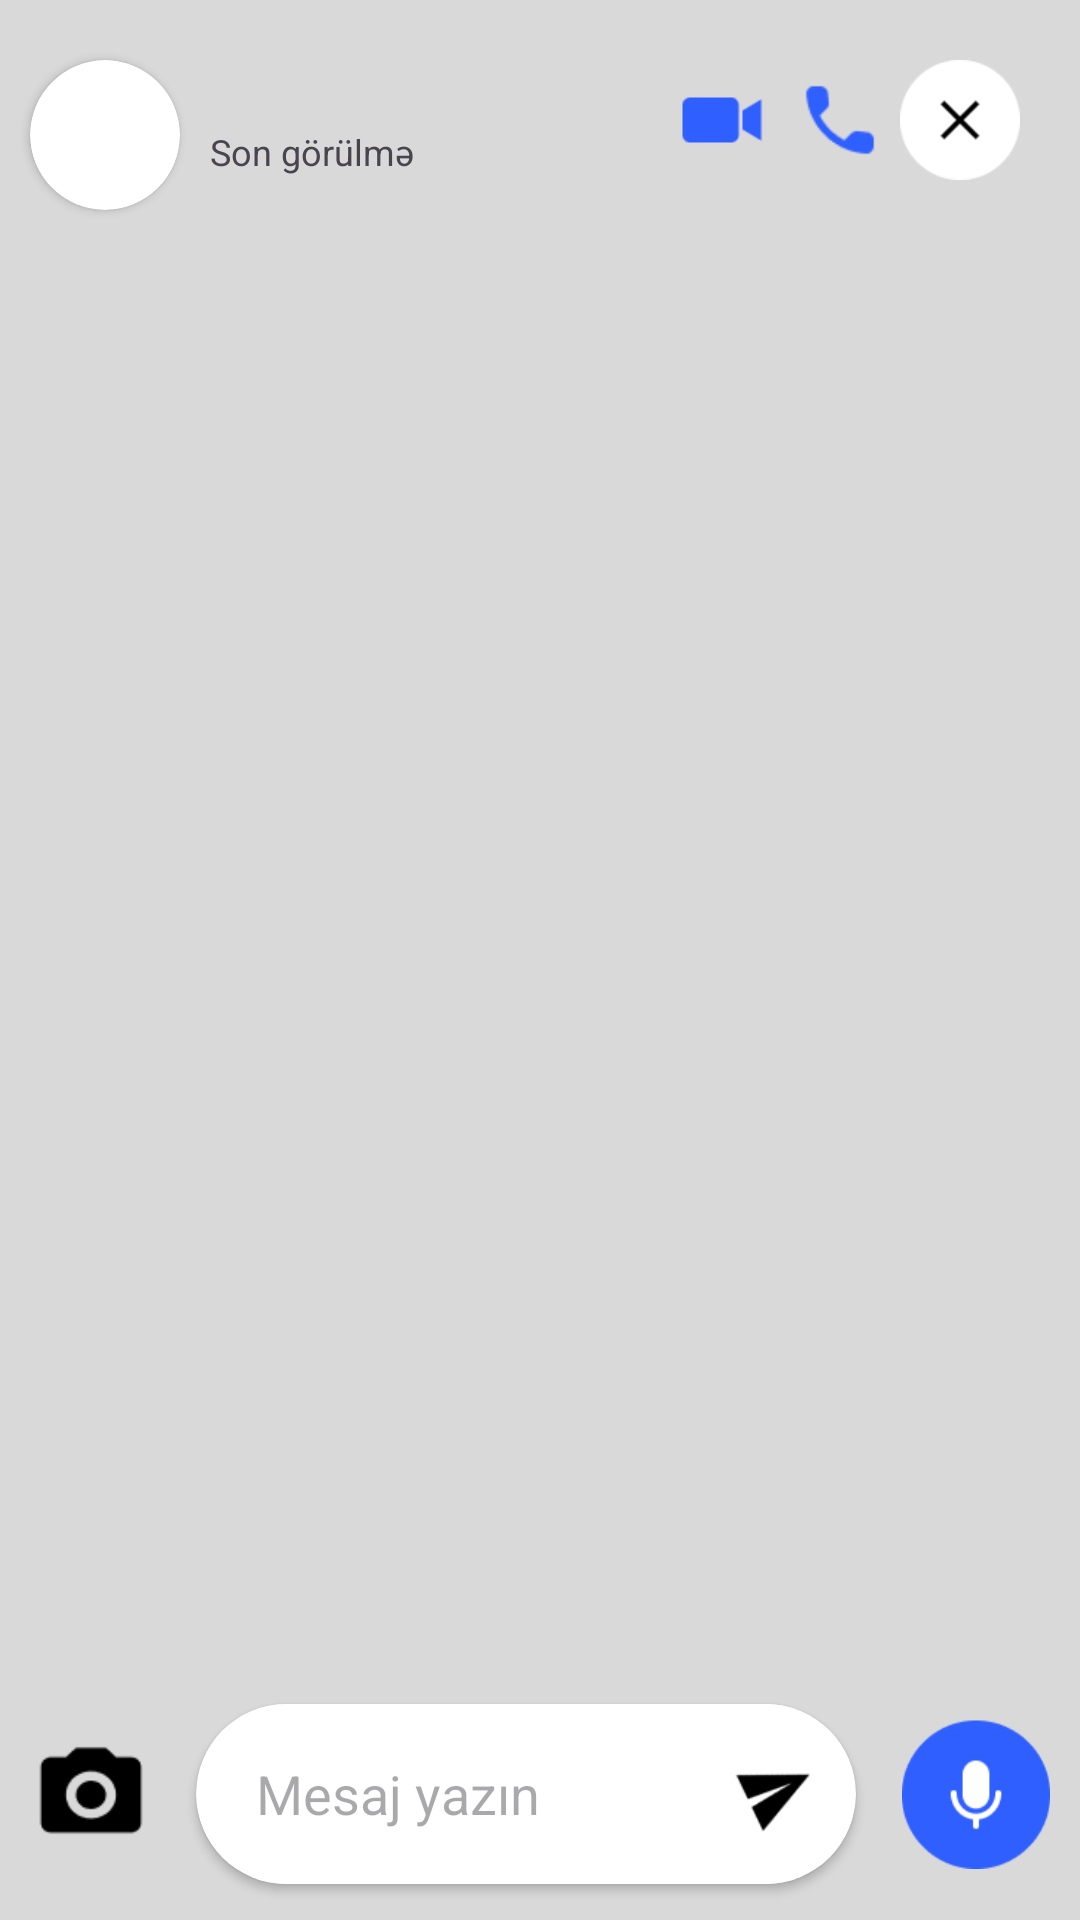

Where to tap for icons on this 1080px x 1920px app screen, as (x,y):
audiocall: (840,120)
camera: (91,1790)
exitfromchat: (960,120)
sent: (773,1802)
videocall: (722,120)
voice: (976,1794)
